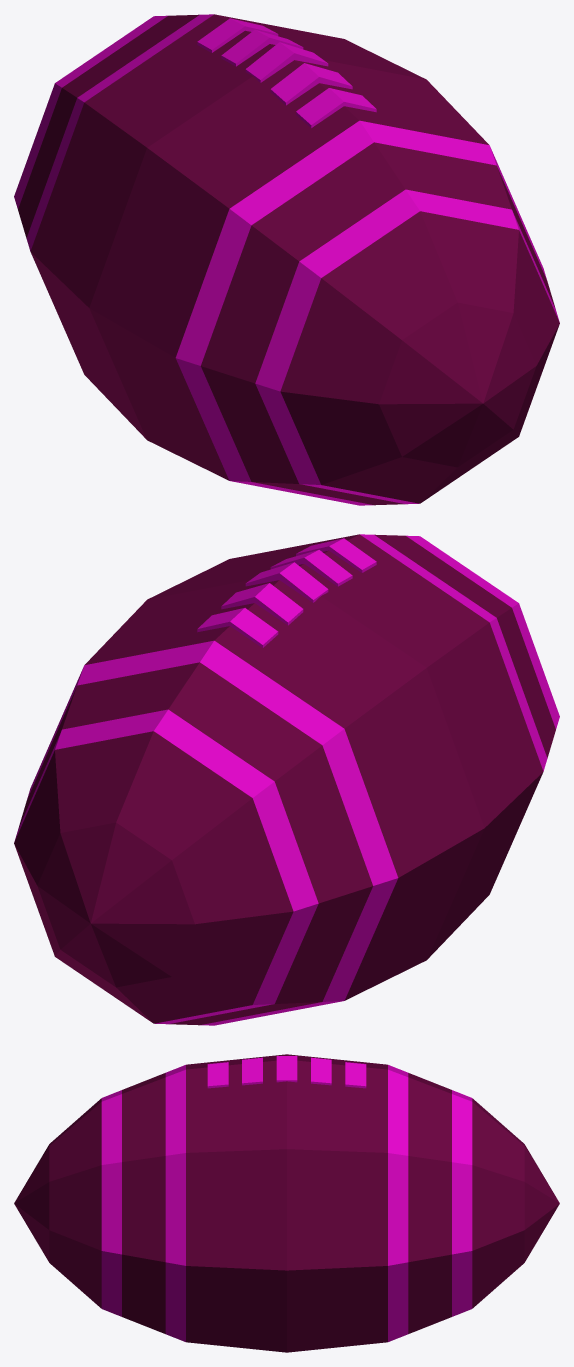
The model's file is Football_01.fbx.
The picture shows the model from 3 angles, top to bottom: view 1: azimuth 30°, elevation 25°; view 2: azimuth 150°, elevation 25°; view 3: azimuth 270°, elevation 25°; orthographic projection. The views are drawn at different scales.
Parts seen in each view (by area): view 1: Football_01; view 2: Football_01; view 3: Football_01.
Part boxes in pixels (box(x1,y1,x2,y2)): Football_01: box(14, 14, 559, 505); Football_01: box(14, 534, 559, 1025); Football_01: box(14, 1054, 559, 1352).
Bounding box in the file's own units: 2.84 × 2.88 × 4.88.
